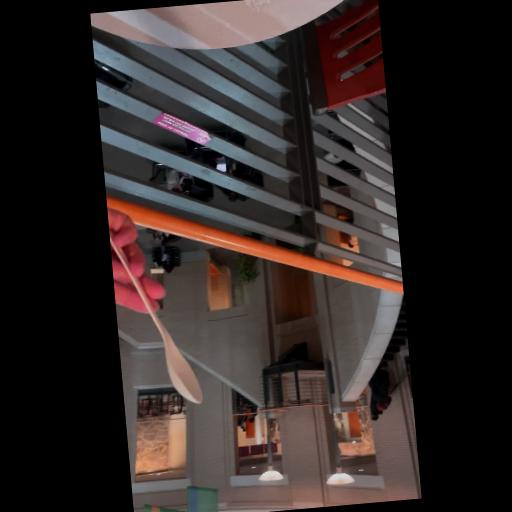utensil: (108, 199, 228, 423)
